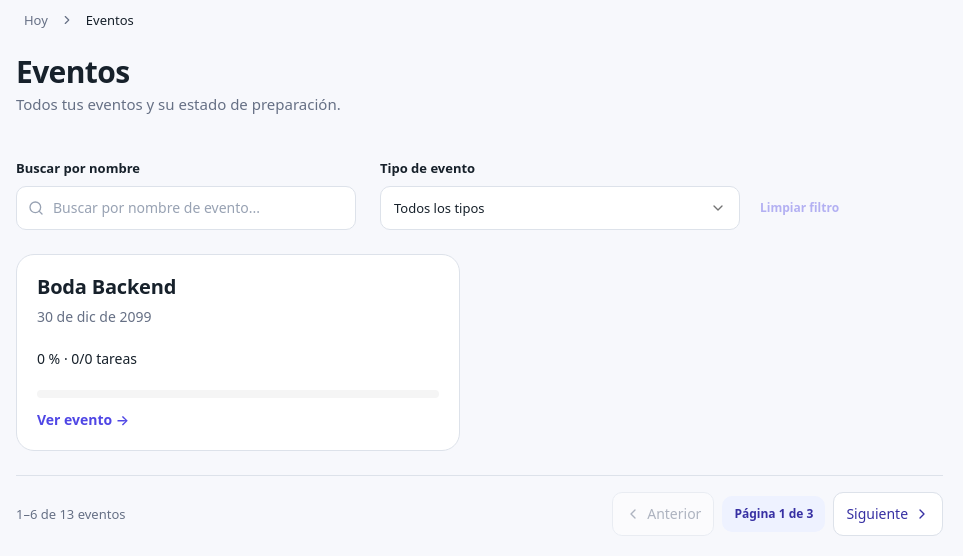
Test: EventsPage › solicita la siguiente página y regresa a la primera mediante la URL
Click the button "Siguiente".
click(888, 514)  # box [833, 492, 943, 536]
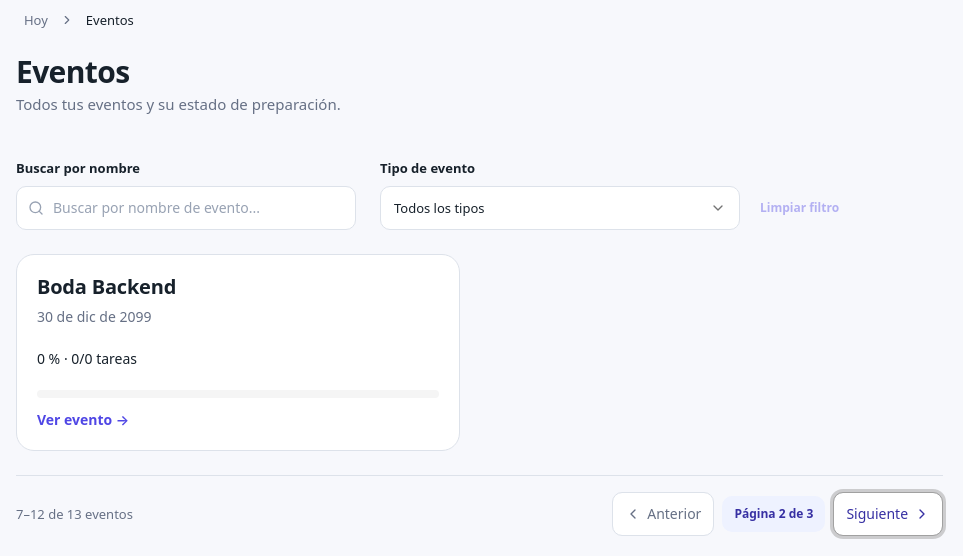
Result: the text "Página 2 de 3" is shown at [722, 496, 825, 532]
Click the button "Anterior".
click(663, 514)  # box [612, 492, 714, 536]
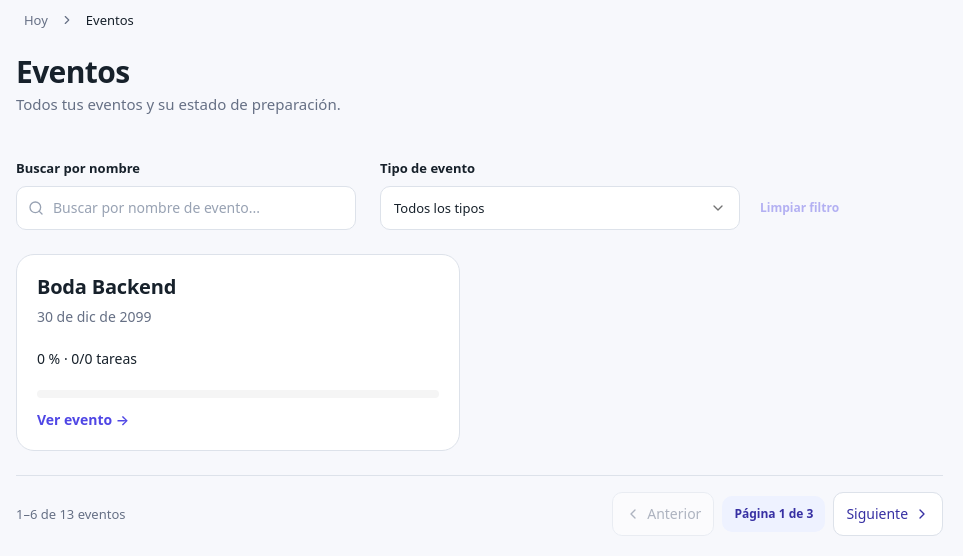
Result: the text "Página 1 de 3" is shown at [722, 496, 825, 532]
